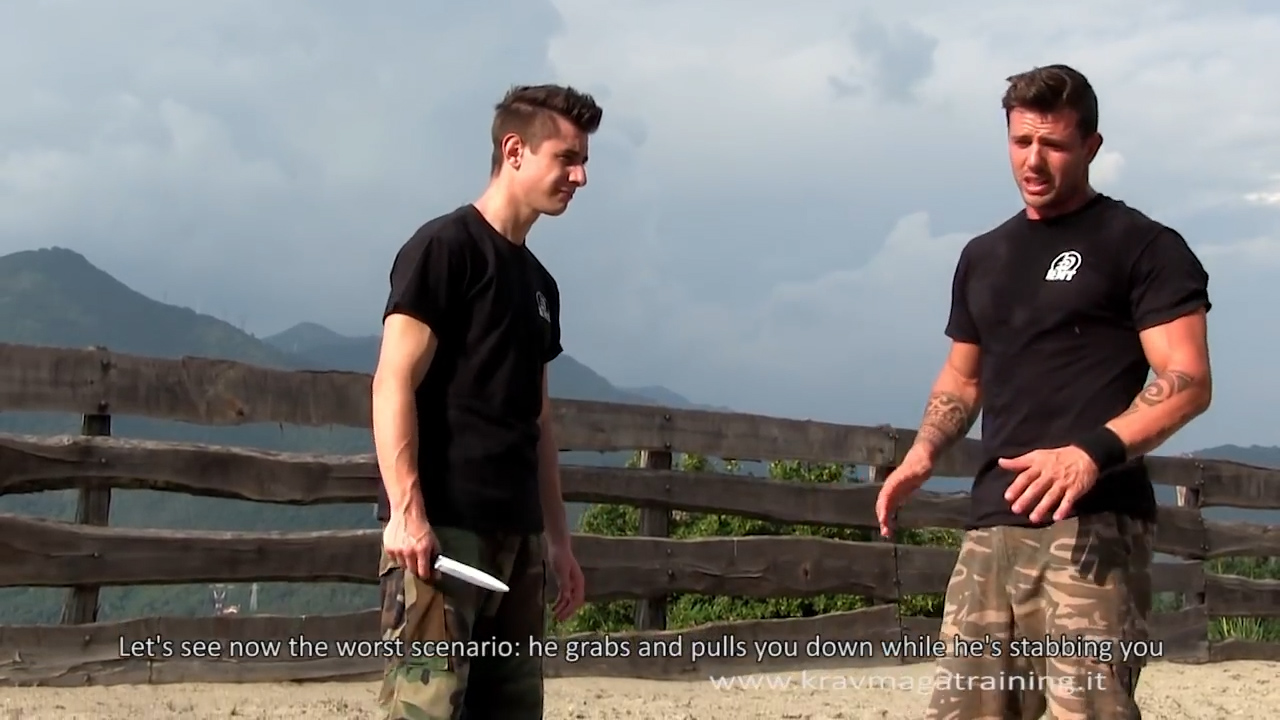knife: (378, 530, 522, 602)
